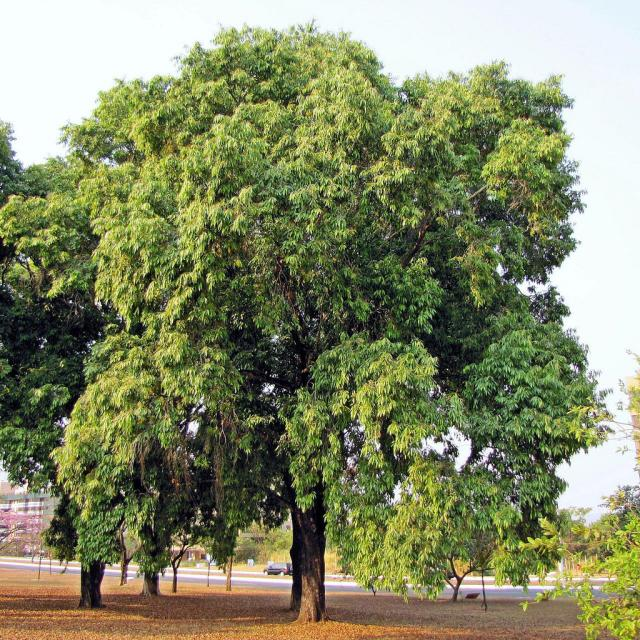Medicinal-Rose Apple: (24, 8, 597, 632)
